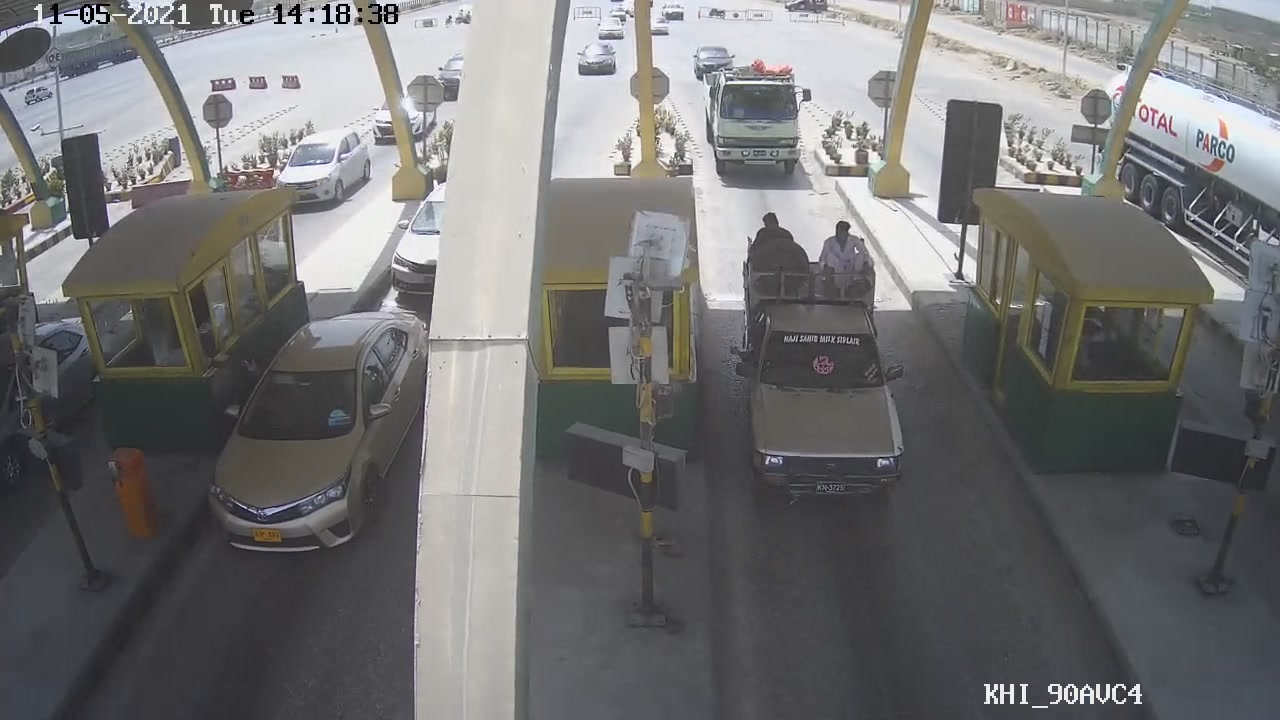F1: (722, 244, 911, 505)
